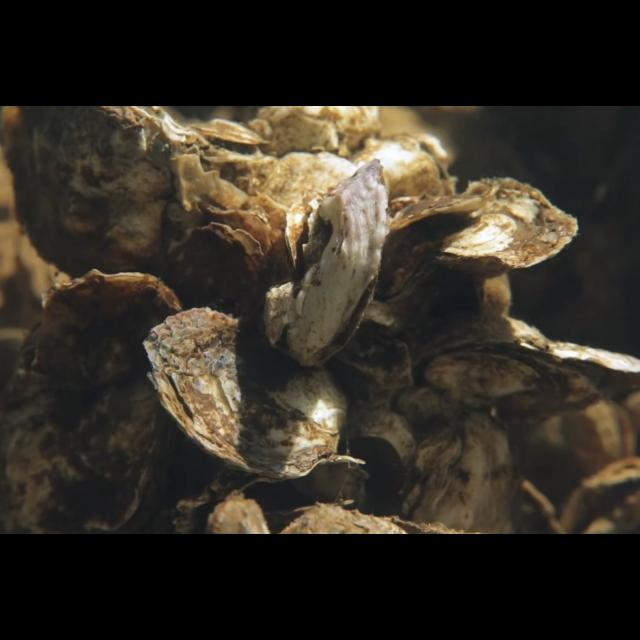Oyster-Closed: (4, 267, 184, 535), (6, 106, 220, 288), (140, 306, 352, 482), (262, 158, 388, 368), (383, 178, 581, 304), (394, 411, 522, 535), (169, 222, 269, 324)
Oyster-Open: (410, 316, 640, 426), (232, 457, 366, 535), (556, 455, 640, 535), (186, 116, 268, 166)
